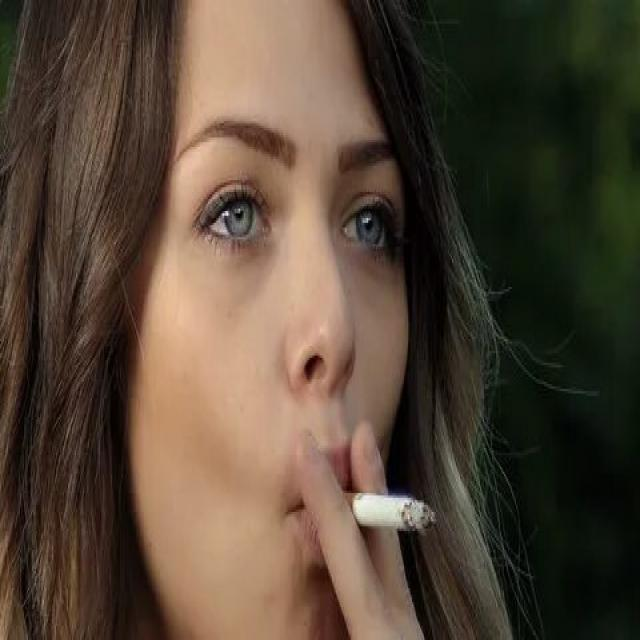cigarette: (337, 479, 440, 545)
